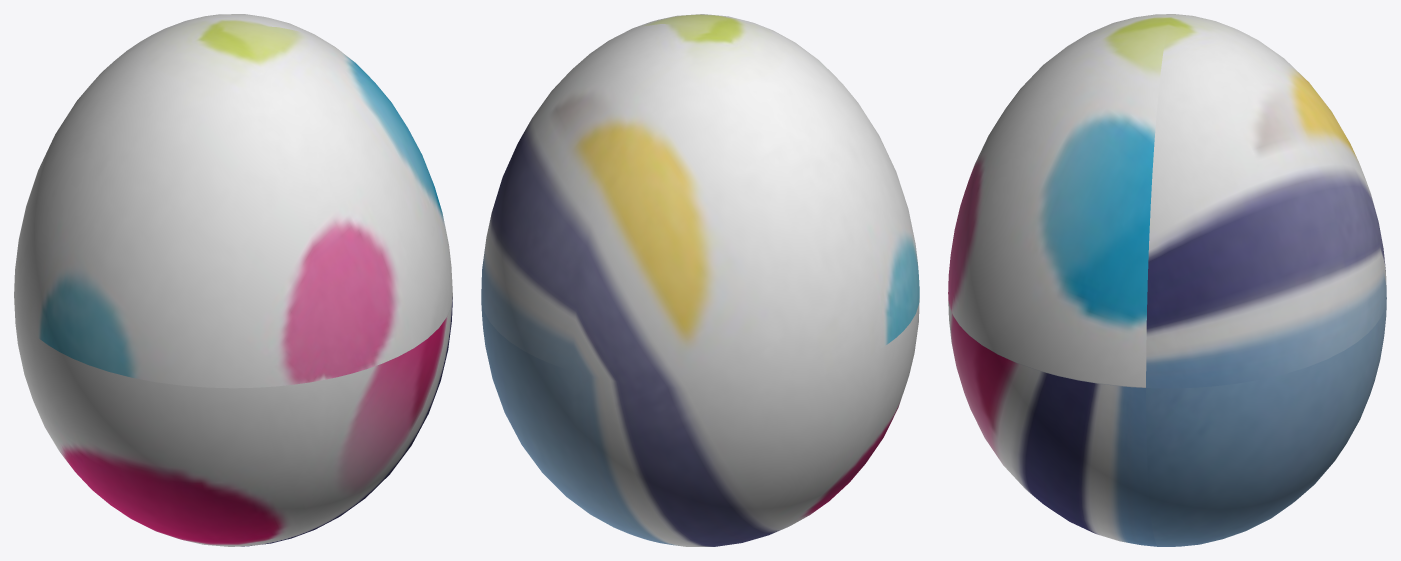
The model's file is mcdonalds_easter_demo_mcfluryy.gltf.
The picture shows the model from 3 angles, left to right: view 1: azimuth 30°, elevation 25°; view 2: azimuth 150°, elevation 25°; view 3: azimuth 270°, elevation 25°; orthographic projection.
Parts seen in each view (by area): view 1: big_mac; view 2: big_mac; view 3: big_mac.
Part boxes in pixels (x1,y1,x2,y2): big_mac: (14, 14, 452, 546); big_mac: (481, 14, 919, 546); big_mac: (948, 14, 1386, 546).
Bounding box in the file's own units: 184 × 231 × 184.
Materials: 1 (1 with a texture image).
